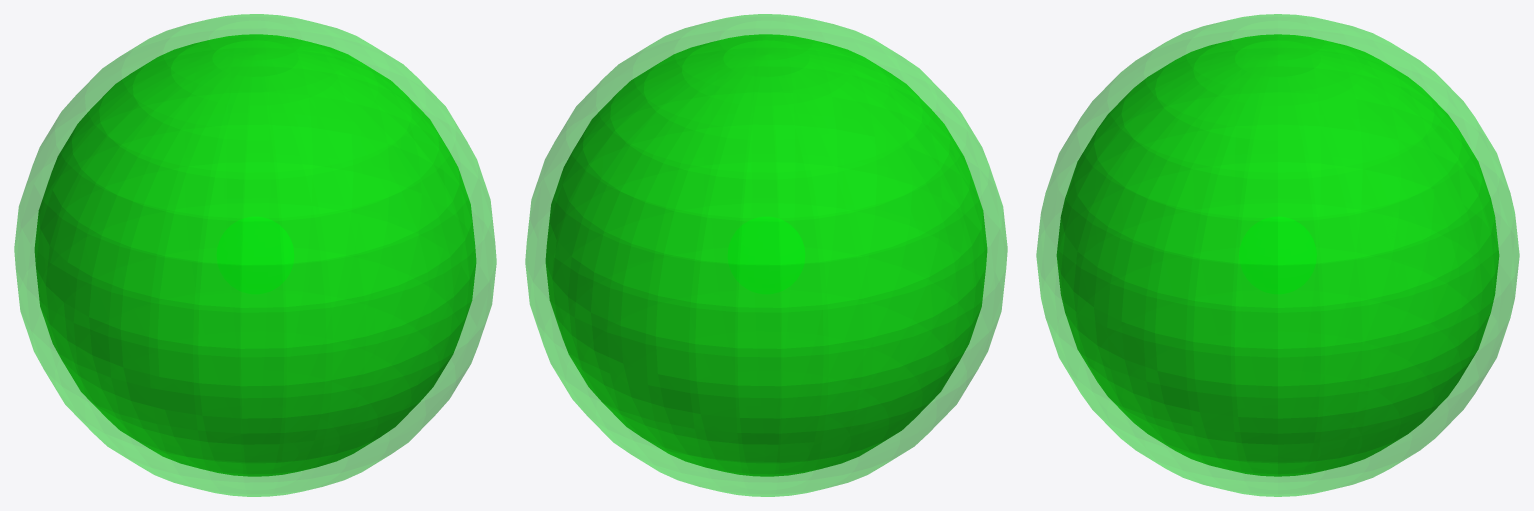
File: EnergyCore.fbx
3 renders of one model, left to right at view 1: azimuth 30°, elevation 25°; view 2: azimuth 150°, elevation 25°; view 3: azimuth 270°, elevation 25°, orthographic.
Visible parts, largest first — view 1: EnergyCore; view 2: EnergyCore; view 3: EnergyCore.
Part boxes in pixels (box(x1,y1,x2,y2)): EnergyCore: box(14, 14, 496, 496); EnergyCore: box(525, 14, 1007, 496); EnergyCore: box(1036, 14, 1519, 496).
Size of the model in its own units: 200 by 200 by 200.
